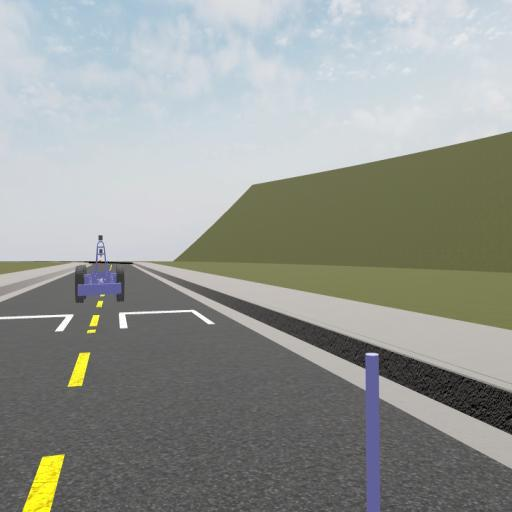ERP-42: (76, 234, 126, 302)
